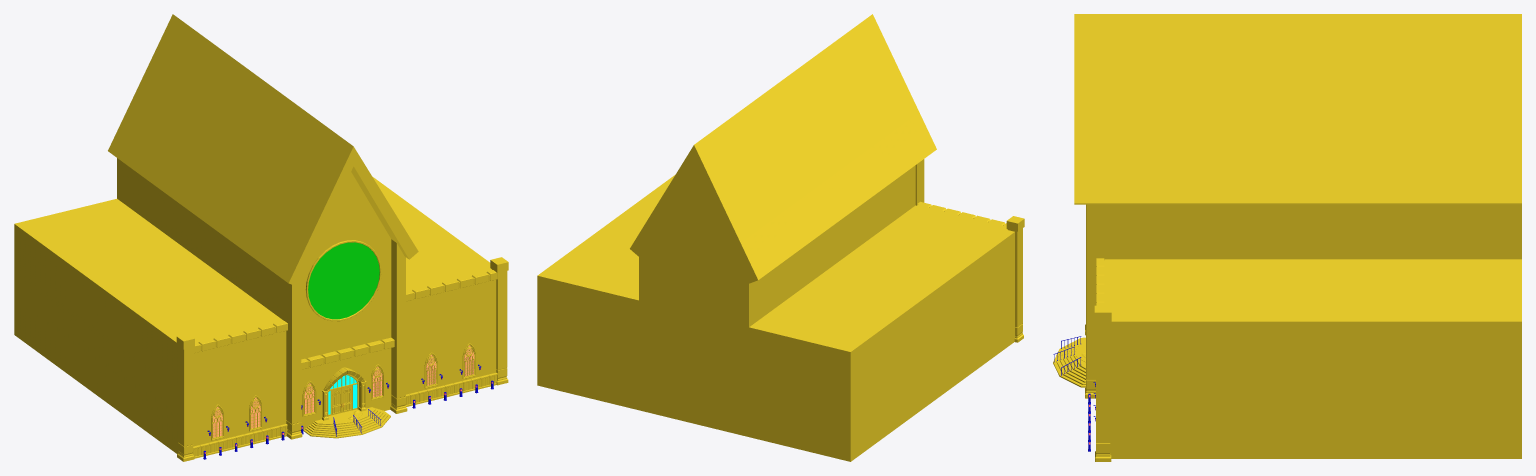
Rendered from Church_door_ver.FBX.
The picture shows the model from 3 angles, left to right: view 1: azimuth 30°, elevation 25°; view 2: azimuth 150°, elevation 25°; view 3: azimuth 270°, elevation 25°; orthographic projection. The views are drawn at different scales.
Visible parts, largest first — view 1: Church; view 2: Church; view 3: Church.
Part boxes in pixels (x1=…): Church: x1=14, y1=14, x2=508, y2=461; Church: x1=537, y1=14, x2=1024, y2=461; Church: x1=1053, y1=14, x2=1521, y2=461.
Size of the model in its own units: 5331 by 4424 by 5380.
